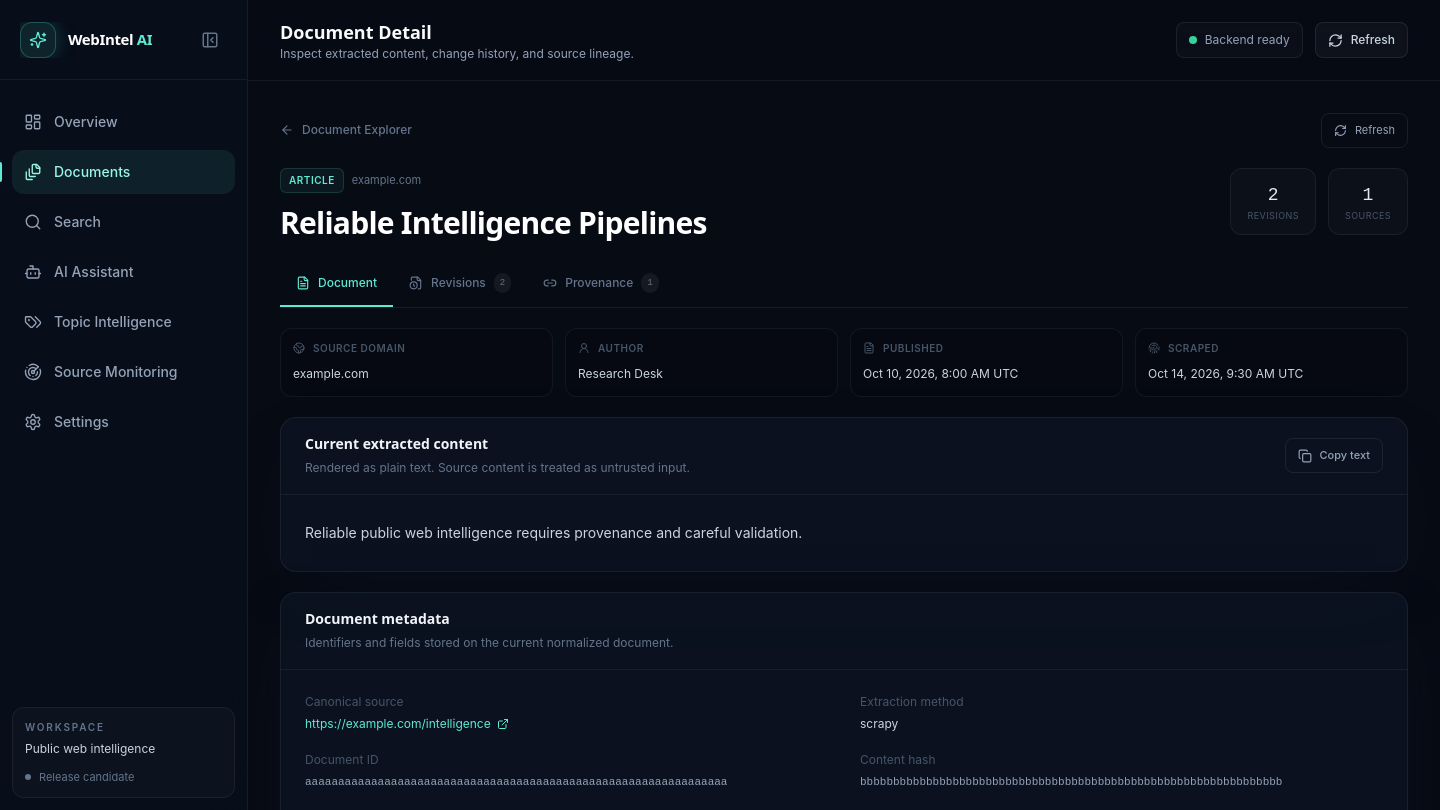
Test: DocumentDetailPage › renders backend-generated revision comparison excerpts
Click the tab "Revisions 2".
click(460, 284)  # box [393,260,527,306]
(page scrolled)
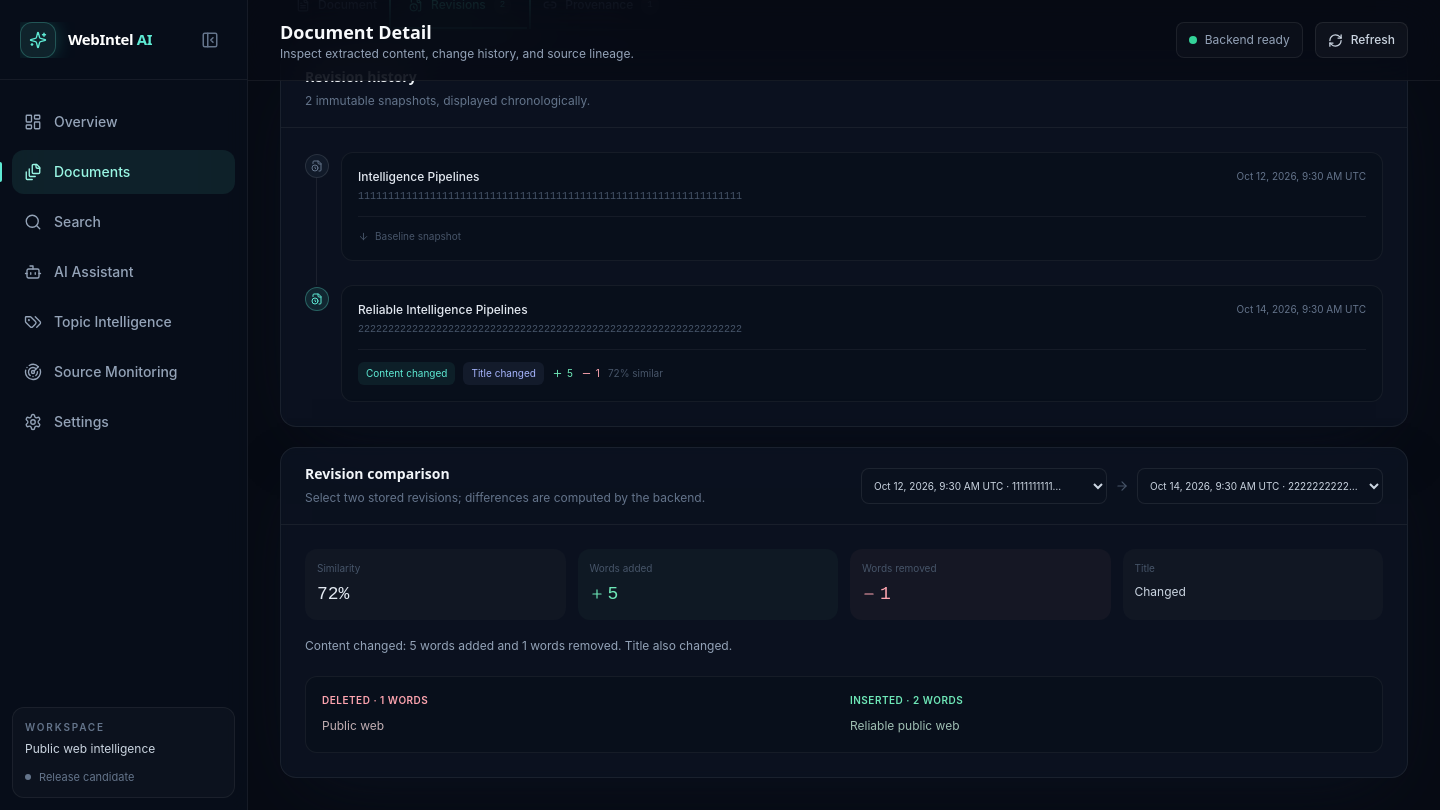
Check: the text "Reliable public web" is shown, box [850,718,960,732]
Check: the text "Content changed: 5 words added and 1 words removed. Title also changed." is shown, box [305,638,732,652]
Check: the text "Public web" is shown, box [322,718,384,732]
